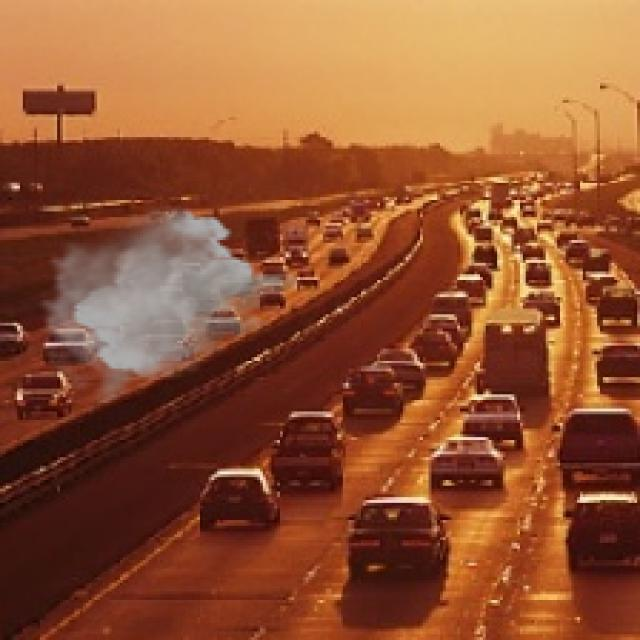Smoke: (37, 206, 306, 406)
